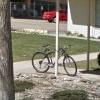Bicycle: (26, 37, 84, 77)
